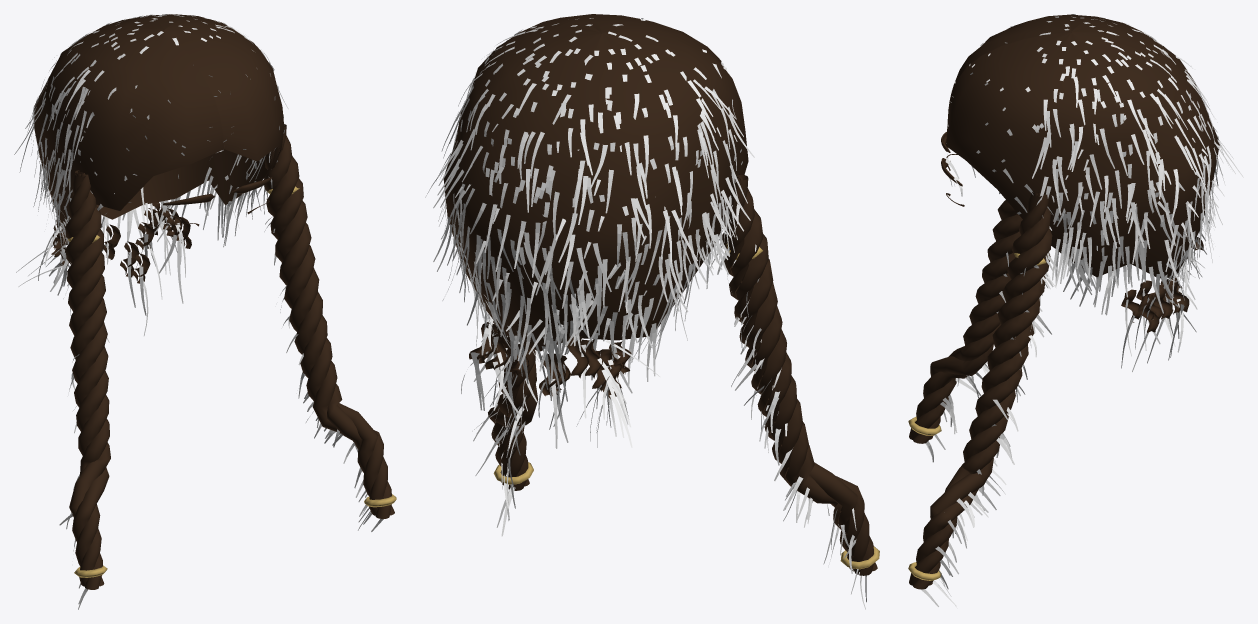
File: hair-warden-braids.glb
3 views of the same model, side by side, from view 1: azimuth 30°, elevation 25°; view 2: azimuth 150°, elevation 25°; view 3: azimuth 270°, elevation 25° (orthographic). The views are drawn at different scales.
Parts seen in each view (by area): view 1: hair-warden-braids_1, hair__strands, hair-warden-braids_2; view 2: hair-warden-braids_1, hair__strands, hair-warden-braids_2; view 3: hair-warden-braids_1, hair__strands, hair-warden-braids_2.
Boxes of the visible parts, <box> form: hair-warden-braids_1: <box>34,14,394,589</box>; hair__strands: <box>14,14,383,609</box>; hair-warden-braids_2: <box>67,186,396,577</box>; hair-warden-braids_1: <box>443,14,877,575</box>; hair__strands: <box>425,18,866,609</box>; hair-warden-braids_2: <box>493,243,879,569</box>; hair-warden-braids_1: <box>909,14,1219,589</box>; hair__strands: <box>920,14,1243,606</box>; hair-warden-braids_2: <box>908,253,1046,580</box>.
Bounding box in the file's own units: 0.3293 × 0.4861 × 0.2907.
